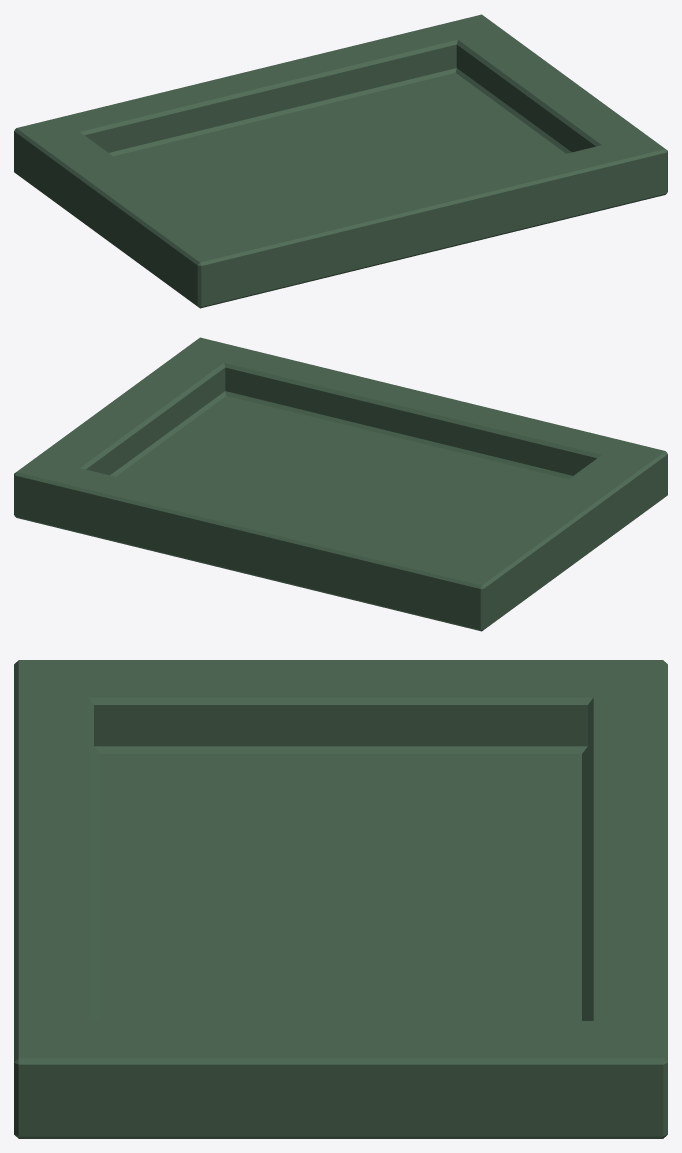
Rendered from fbx_oldbuilding_boundary_g1.fbx.
The picture shows the model from 3 angles, top to bottom: view 1: azimuth 30°, elevation 25°; view 2: azimuth 150°, elevation 25°; view 3: azimuth 270°, elevation 25°; orthographic projection. The views are drawn at different scales.
Visible parts, largest first — view 1: fbx_oldbuilding_boundary_g1; view 2: fbx_oldbuilding_boundary_g1; view 3: fbx_oldbuilding_boundary_g1.
Boxes of the visible parts, x1=… form: fbx_oldbuilding_boundary_g1: x1=14, y1=14, x2=667, y2=308; fbx_oldbuilding_boundary_g1: x1=14, y1=337, x2=667, y2=631; fbx_oldbuilding_boundary_g1: x1=14, y1=660, x2=667, y2=1138.
Size of the model in its own units: 6 by 0.5598 by 4.12.
Materials: 1 (1 with a texture image).
